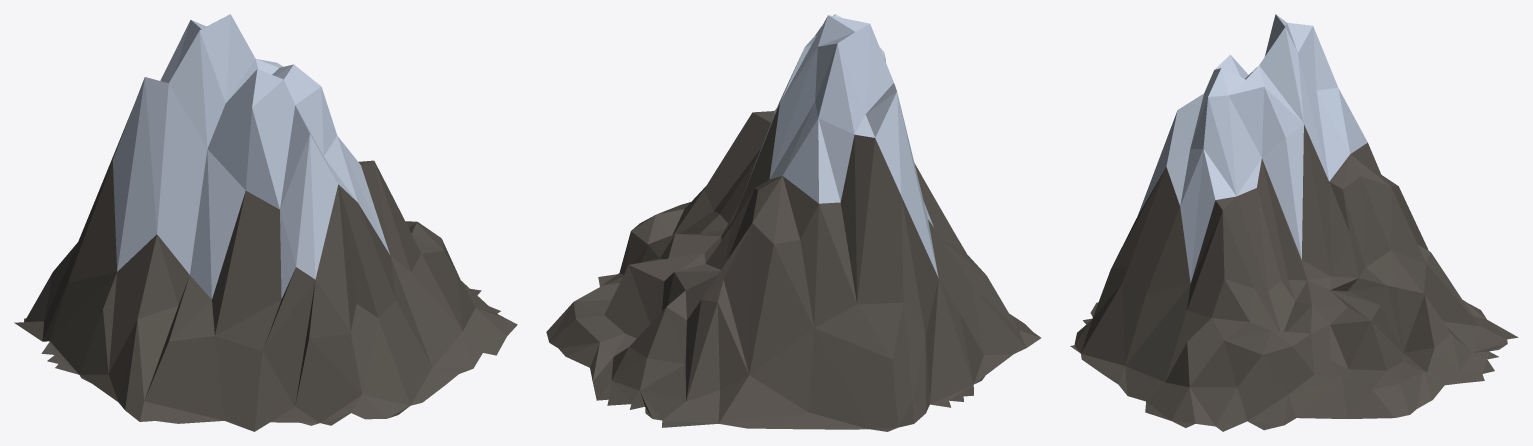
3 renders of one model, left to right at view 1: azimuth 30°, elevation 25°; view 2: azimuth 150°, elevation 25°; view 3: azimuth 270°, elevation 25°, orthographic. The views are drawn at different scales.
Parts seen in each view (by area): view 1: Landscape.003; view 2: Landscape.003; view 3: Landscape.003.
Boxes of the visible parts, x1=… form: Landscape.003: x1=14, y1=14, x2=517, y2=431; Landscape.003: x1=546, y1=14, x2=1040, y2=431; Landscape.003: x1=1070, y1=14, x2=1518, y2=431.
Bounding box in the file's own units: 1.78 × 1.42 × 1.9.
